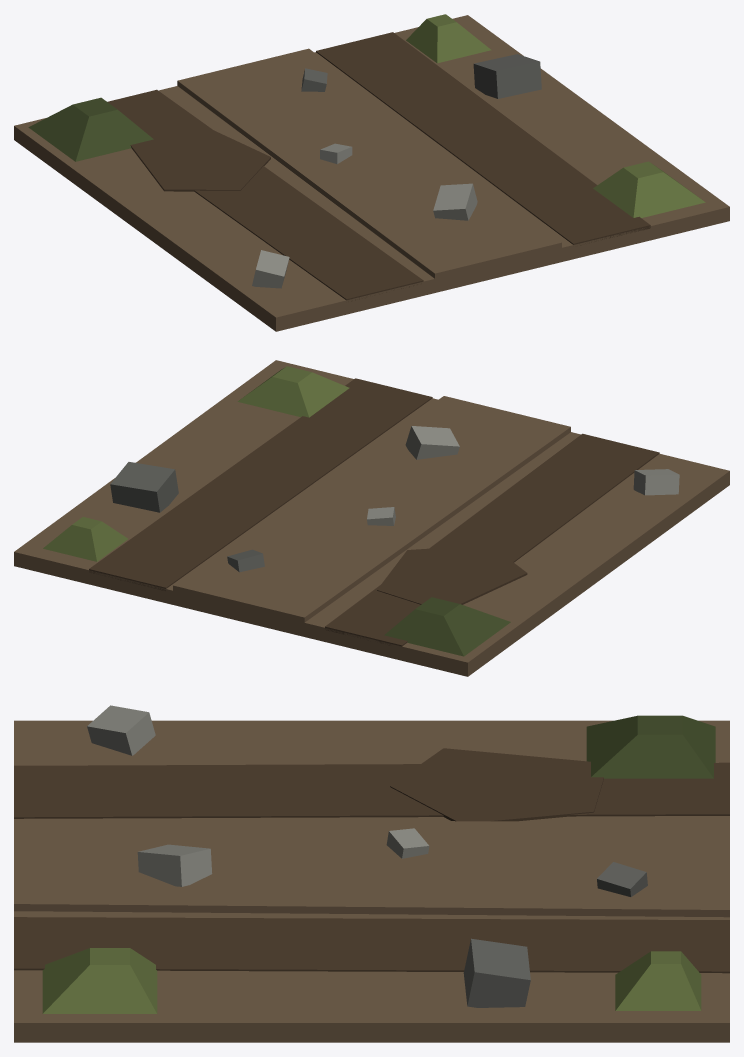
File: ground_tile_dirt.glb
The picture shows the model from 3 angles, top to bottom: view 1: azimuth 30°, elevation 25°; view 2: azimuth 150°, elevation 25°; view 3: azimuth 270°, elevation 25°; orthographic projection. The views are drawn at different scales.
Visible parts, largest first — view 1: ground_tile_mesh; view 2: ground_tile_mesh; view 3: ground_tile_mesh.
Part boxes in pixels (x1,y1,x2,y2): ground_tile_mesh: (14, 14, 729, 331); ground_tile_mesh: (14, 360, 729, 676); ground_tile_mesh: (14, 705, 729, 1042).
Bounding box in the file's own units: 2 × 0.1838 × 2.
